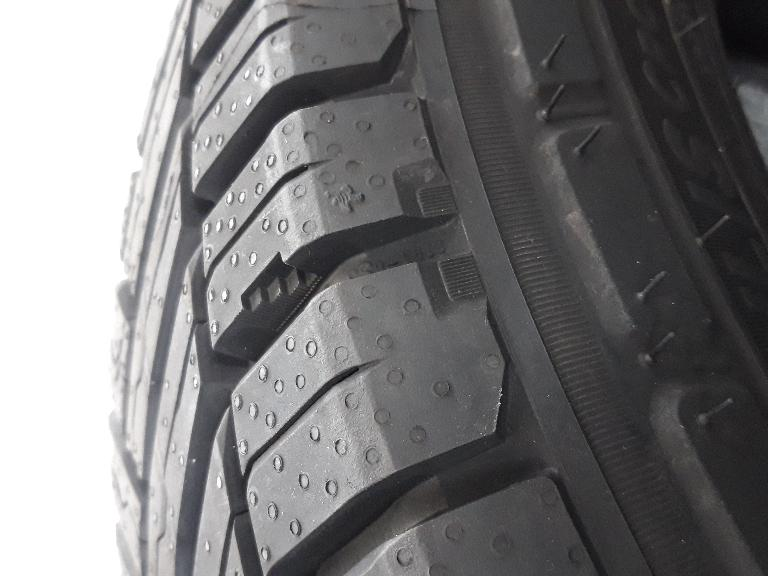temoin:100: (230, 250, 326, 331)
